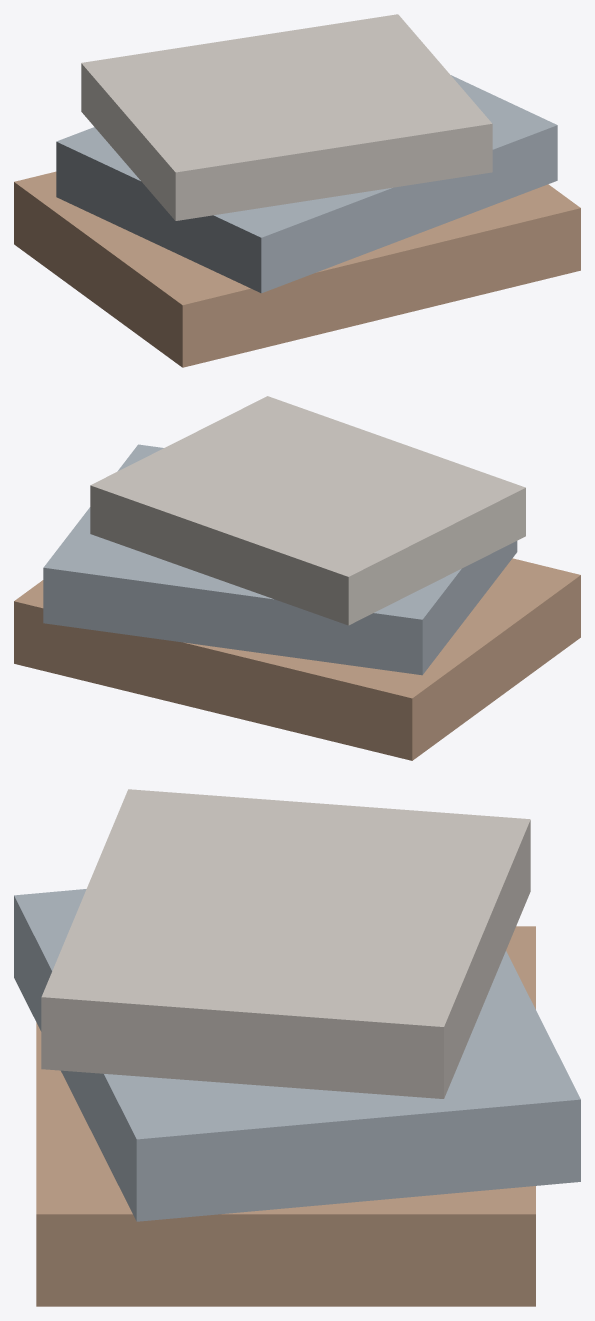
File: bed_aces_livros.glb
The picture shows the model from 3 angles, top to bottom: view 1: azimuth 30°, elevation 25°; view 2: azimuth 150°, elevation 25°; view 3: azimuth 270°, elevation 25°; orthographic projection. The views are drawn at different scales.
Parts seen in each view (by area): view 1: BED_Aces_Livros_v01; view 2: BED_Aces_Livros_v01; view 3: BED_Aces_Livros_v01.
Part boxes in pixels (x1,y1,x2,y2): BED_Aces_Livros_v01: (14, 14, 580, 367); BED_Aces_Livros_v01: (14, 396, 580, 760); BED_Aces_Livros_v01: (14, 789, 580, 1306).
Bounding box in the file's own units: 0.308 × 0.12 × 0.2497.
